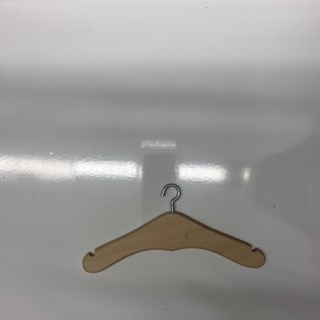rack: (83, 184, 266, 272)
